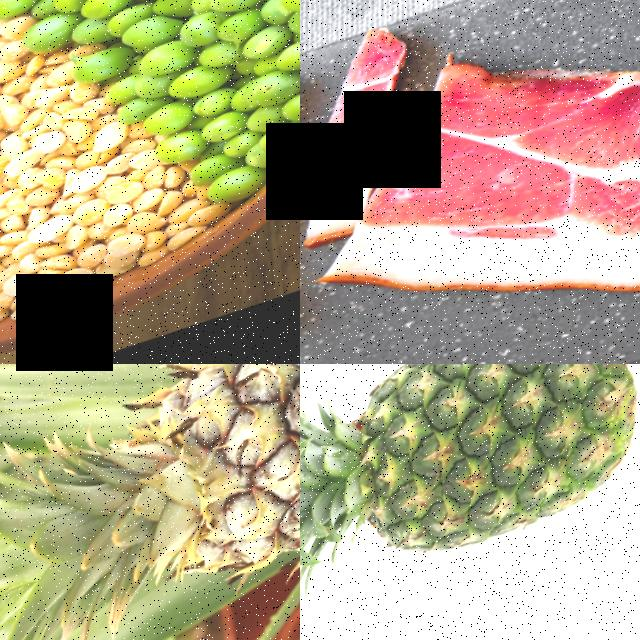peas: (113, 0, 300, 151), (4, 0, 300, 50)
pineapple: (300, 364, 640, 626), (25, 364, 300, 640)
pork belly: (308, 27, 630, 339), (506, 66, 640, 364), (300, 53, 369, 364)
